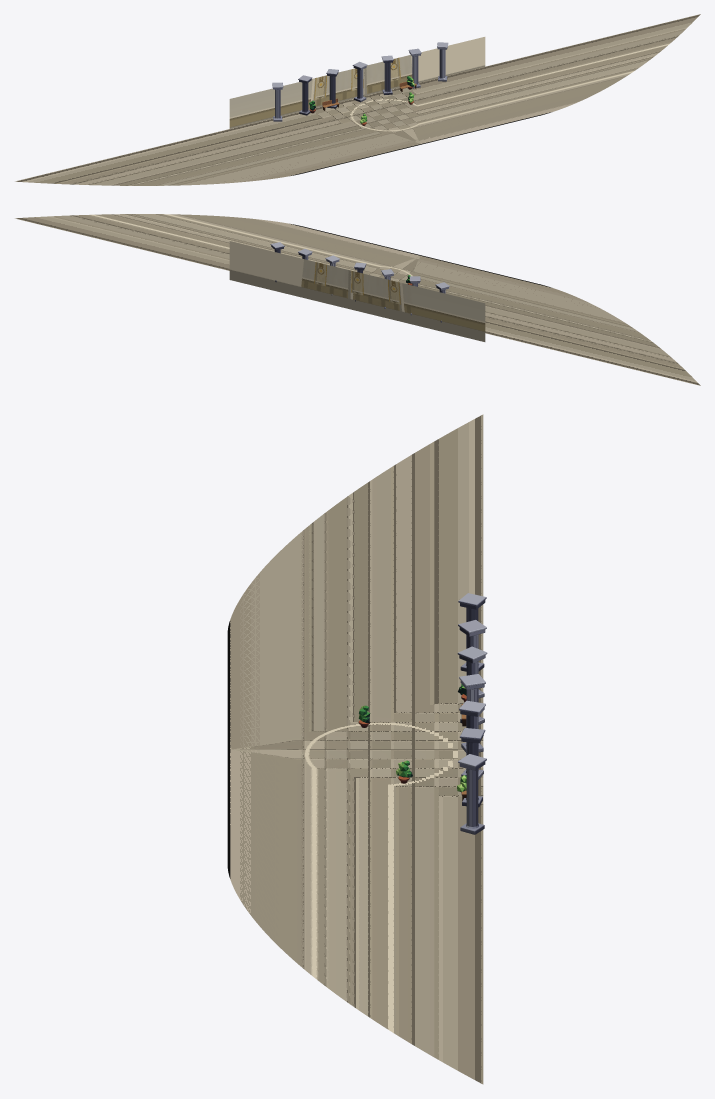
Rendered from bg_gym.glb.
3 renders of one model, top to bottom at view 1: azimuth 30°, elevation 25°; view 2: azimuth 150°, elevation 25°; view 3: azimuth 270°, elevation 25°, orthographic. The views are drawn at different scales.
Parts seen in each view (by area): view 1: indoor_floor, indoor_wall, indoor_decor; view 2: indoor_floor, indoor_wall, indoor_decor; view 3: indoor_floor, indoor_decor.
Boxes of the visible parts, <box> form: indoor_floor: <box>15,14,700,185</box>; indoor_wall: <box>229,37,485,128</box>; indoor_decor: <box>272,42,448,125</box>; indoor_floor: <box>15,214,700,385</box>; indoor_wall: <box>229,241,485,341</box>; indoor_decor: <box>270,242,449,322</box>; indoor_floor: <box>227,414,483,1084</box>; indoor_decor: <box>358,593,487,834</box>.
Bounding box in the file's own units: 80 × 4.9 × 13.1.
3 materials, 2 textured.
